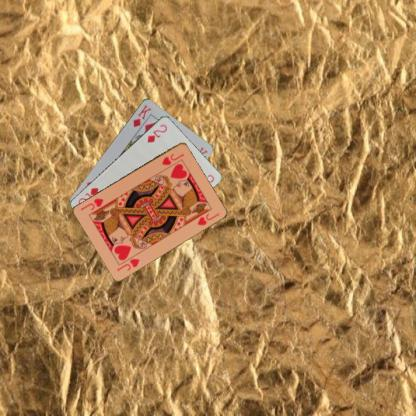2d: (144, 121, 168, 144)
Jh: (114, 256, 141, 272), (159, 150, 185, 166)
Kd: (130, 102, 152, 128)
